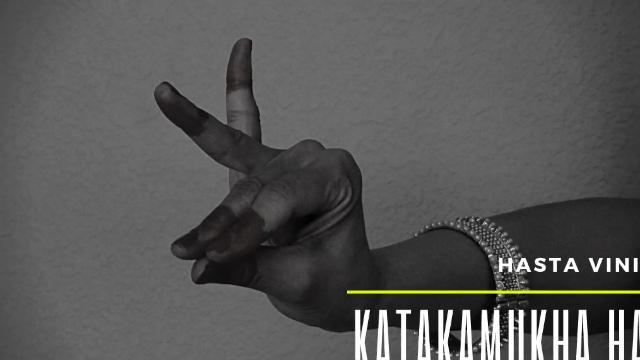katak: (131, 34, 383, 324)
